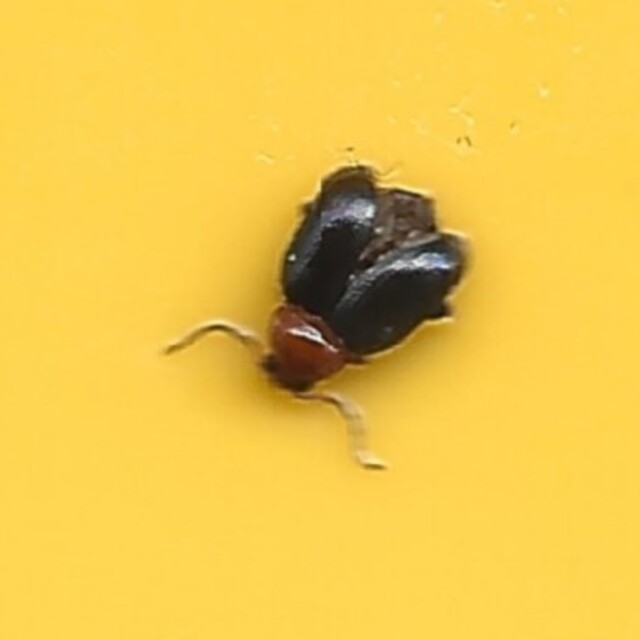Coleoptera: (170, 168, 470, 472)
